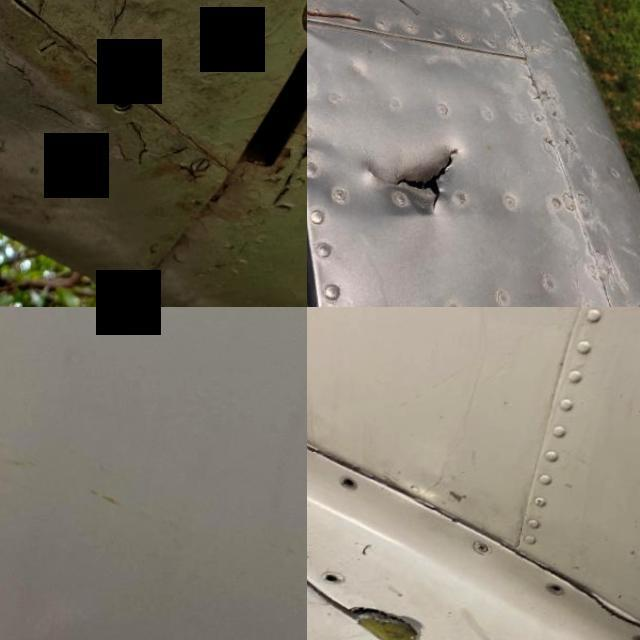Crack: (354, 142, 466, 230), (327, 598, 458, 640), (559, 576, 640, 640), (307, 392, 347, 460), (307, 539, 315, 586)
Dent: (0, 0, 81, 214)
Missing_Fastener: (94, 88, 148, 133), (544, 586, 562, 601), (340, 477, 356, 491), (322, 572, 342, 583)
